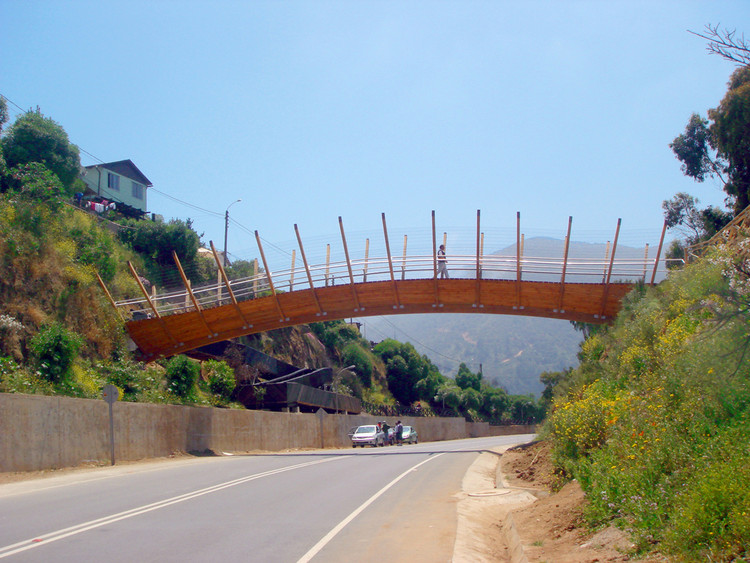bridge: (85, 207, 678, 361)
